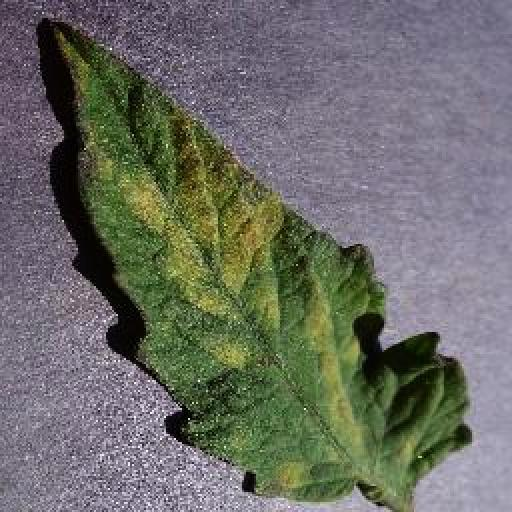disease_tomato: (54, 18, 476, 500)
